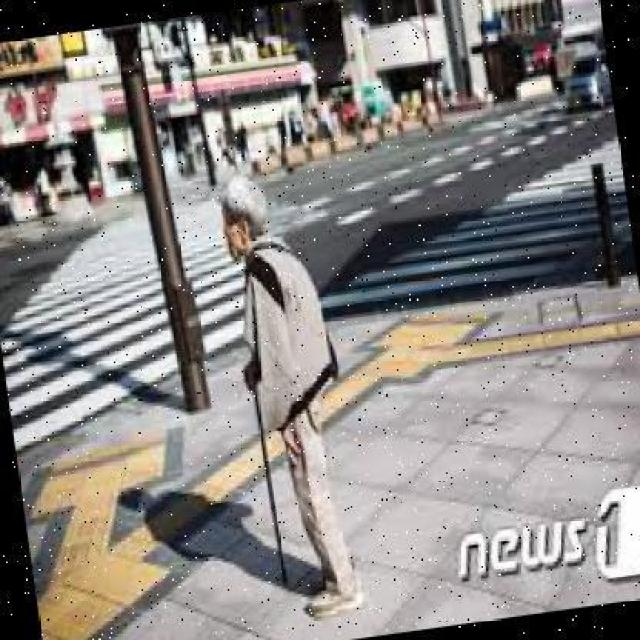-: (218, 168, 372, 628)
